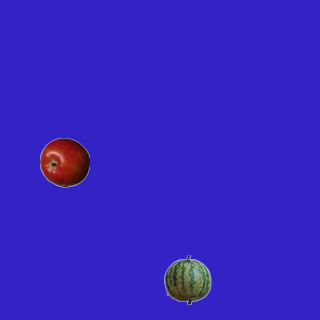Apple Braeburn: (39, 137, 89, 187)
Watermelon: (162, 254, 212, 304)
